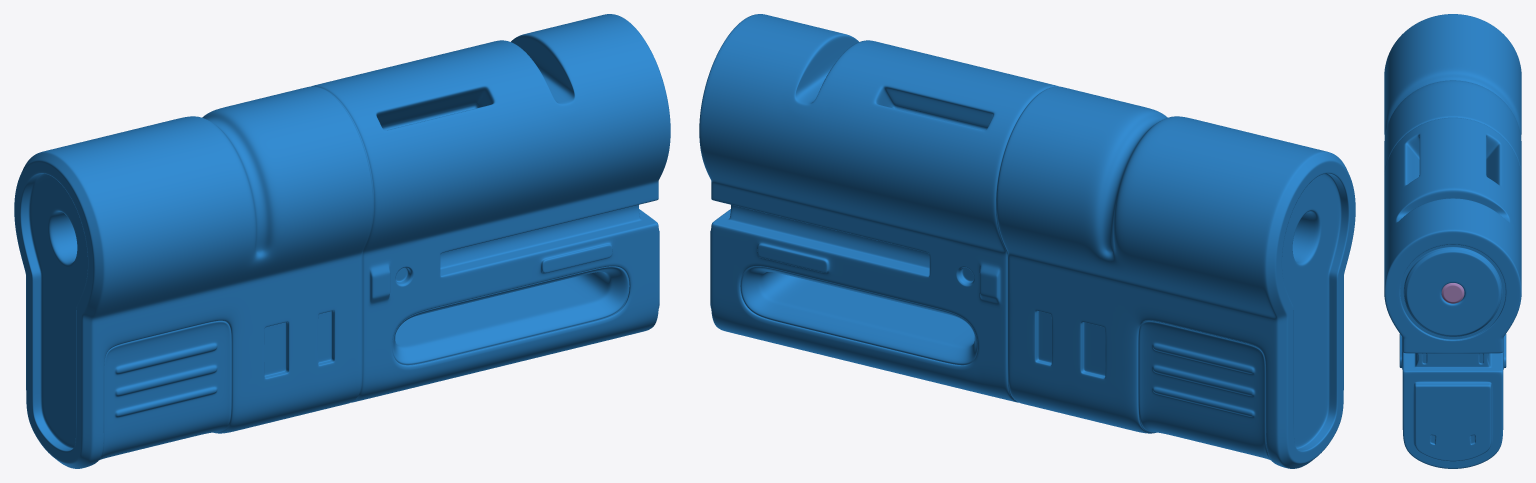
The picture shows the model from 3 angles, left to right: view 1: azimuth 30°, elevation 25°; view 2: azimuth 150°, elevation 25°; view 3: azimuth 270°, elevation 25°; orthographic projection. The views are drawn at different scales.
Visible parts, largest first — view 1: Object_2.002; view 2: Object_2.002; view 3: Object_2.002, Object_2.
Boxes of the visible parts, left/top/right/bottom form: Object_2.002: left=14, top=14, right=670, bottom=468; Object_2.002: left=699, top=14, right=1355, bottom=468; Object_2.002: left=1384, top=14, right=1521, bottom=468; Object_2: left=1441, top=283, right=1464, bottom=303.
Size of the model in its own units: 1 by 0.501 by 0.2613.
